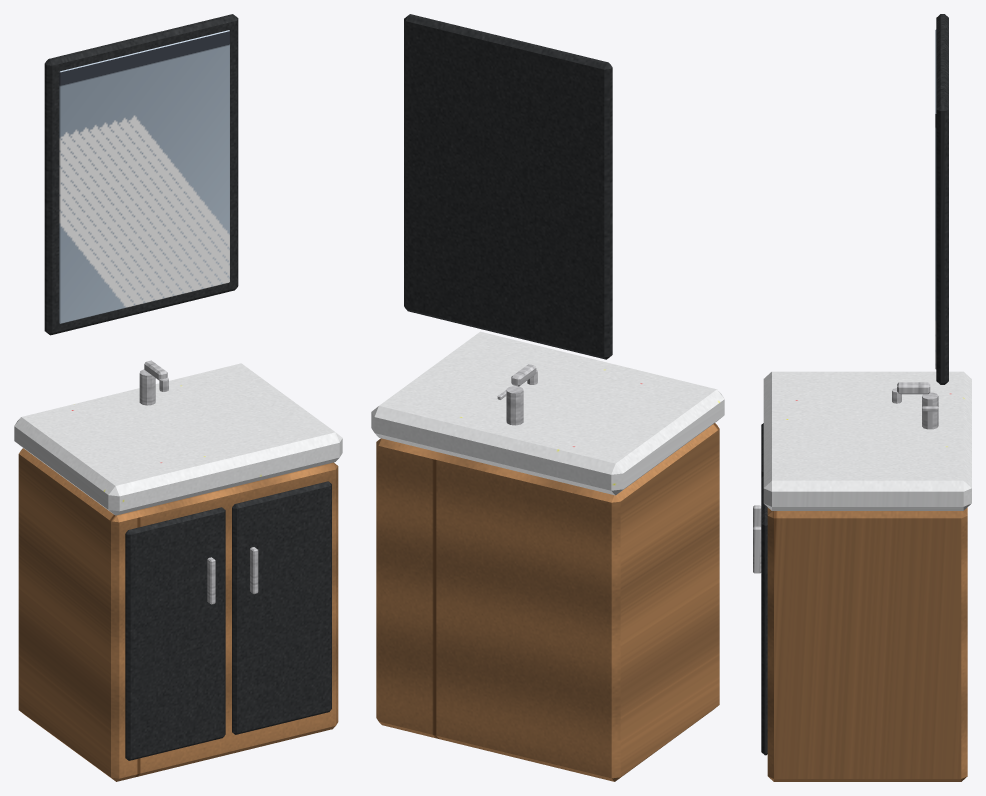
The model's file is 10_Lavamanos_Mueble.obj.
3 renders of one model, left to right at view 1: azimuth 30°, elevation 25°; view 2: azimuth 150°, elevation 25°; view 3: azimuth 270°, elevation 25°, orthographic. The views are drawn at different scales.
Visible parts, largest first — view 1: 10_Lavamanos_Mueble; view 2: 10_Lavamanos_Mueble; view 3: 10_Lavamanos_Mueble.
Boxes of the visible parts, x1,y1,x2,y2 form: 10_Lavamanos_Mueble: (14,14,342,781); 10_Lavamanos_Mueble: (371,14,724,781); 10_Lavamanos_Mueble: (753,14,971,781).
Bounding box in the file's own units: 0.66 × 1.77 × 0.525.
